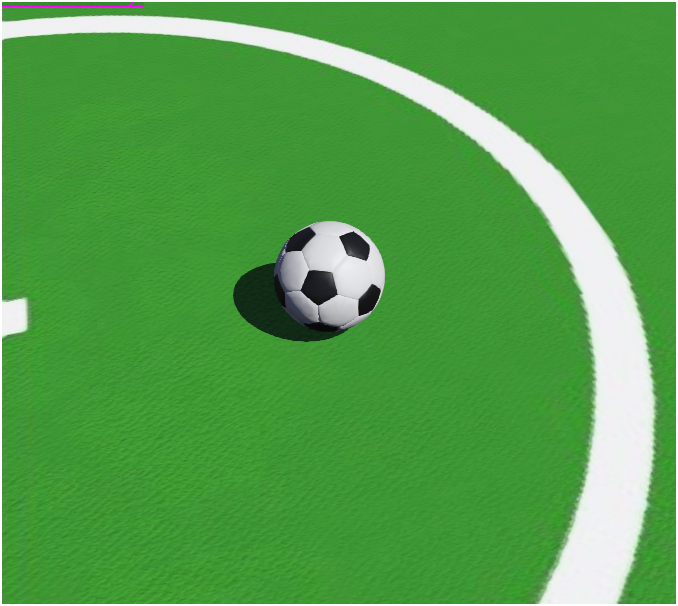Ball: (170, 211, 478, 388)
